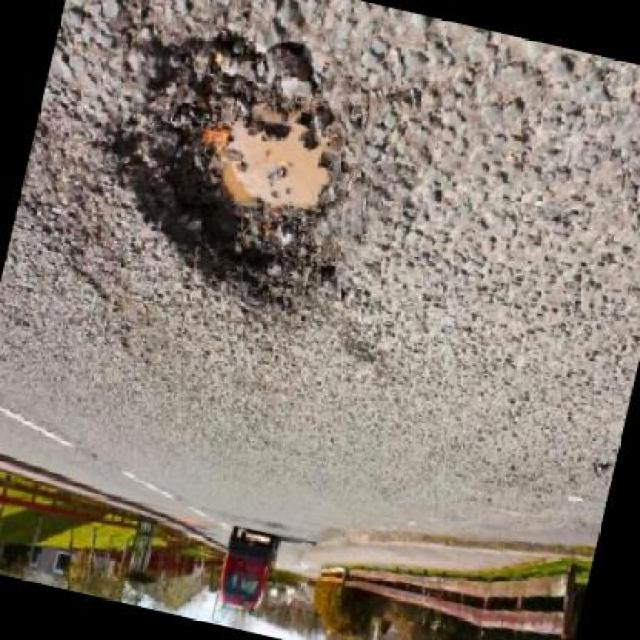pothole1: (81, 0, 406, 332)
